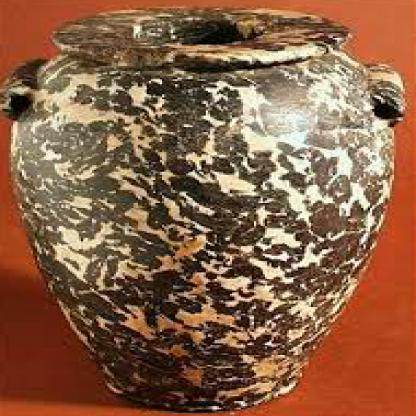Igneous_Diorite: (3, 3, 410, 414)
